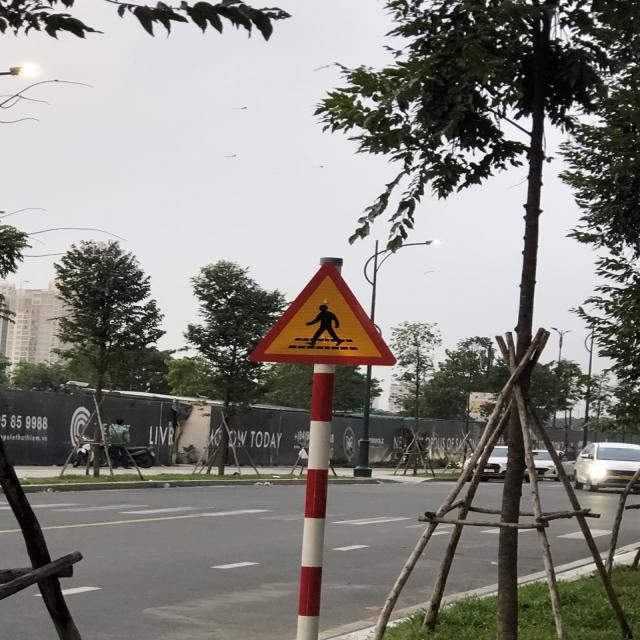Bien bao duong nguoi di bo cat ngang: (236, 249, 405, 373)
